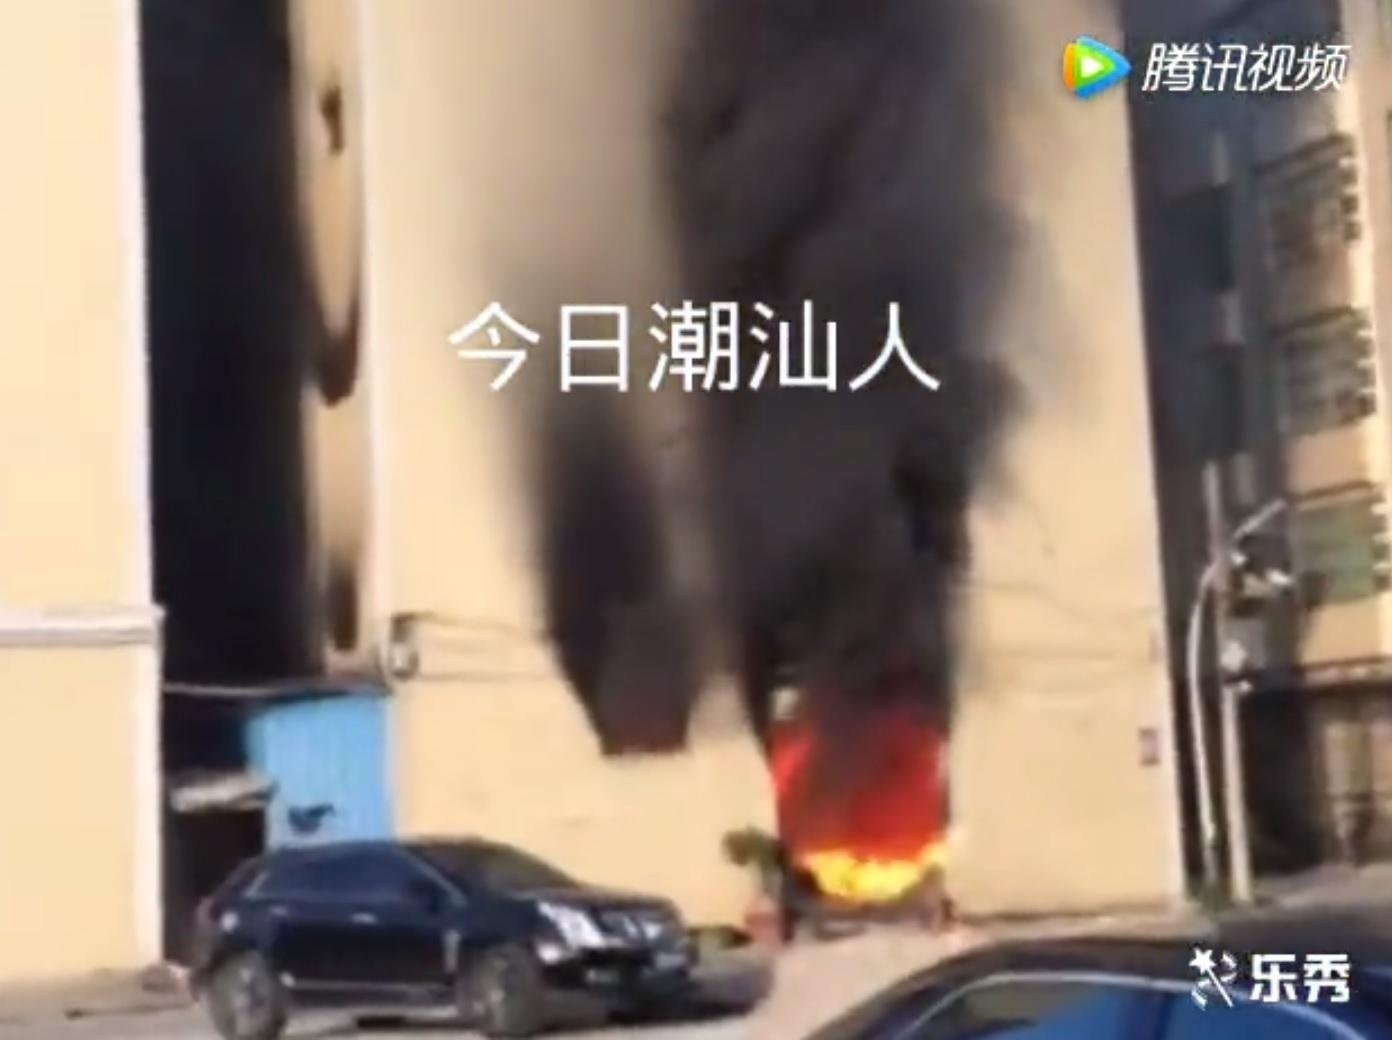fire: (762, 695, 957, 907)
